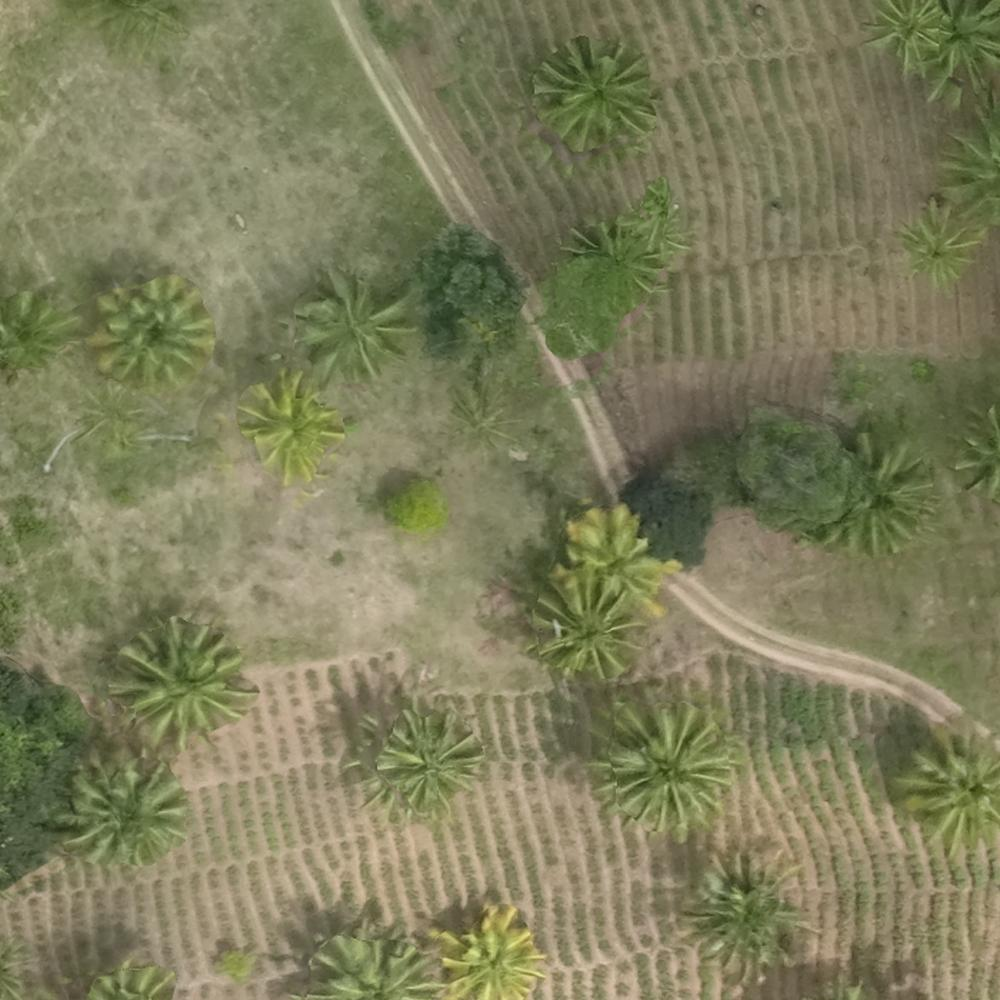Palm: (609, 702, 726, 823), (118, 626, 238, 739), (691, 859, 804, 968), (832, 433, 934, 551), (903, 721, 1000, 841), (66, 760, 180, 862), (534, 43, 649, 143), (530, 569, 641, 672), (560, 509, 671, 612), (91, 282, 204, 380), (296, 276, 403, 374), (377, 718, 481, 812), (432, 912, 542, 1000), (234, 379, 334, 473), (896, 204, 983, 293), (865, 1, 946, 75)
